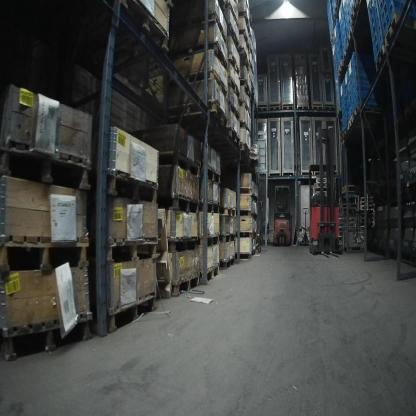forklift: (309, 125, 340, 259), (273, 186, 291, 247)
pallet: (2, 312, 93, 362), (0, 148, 91, 192), (0, 236, 89, 273), (119, 0, 169, 52), (108, 289, 158, 334), (106, 168, 159, 204), (168, 101, 228, 128), (186, 11, 228, 47), (180, 42, 228, 72), (107, 236, 158, 264), (158, 208, 172, 299), (186, 71, 228, 100), (158, 151, 201, 178), (331, 30, 341, 118), (158, 193, 199, 214), (172, 271, 200, 296), (384, 12, 402, 48), (168, 236, 198, 253), (352, 105, 379, 120), (225, 2, 238, 29), (375, 44, 387, 73), (228, 22, 239, 51), (228, 52, 240, 77), (238, 10, 250, 34), (207, 166, 221, 185), (228, 77, 240, 99), (238, 47, 249, 71), (228, 126, 240, 146), (239, 29, 250, 50), (207, 262, 219, 281), (220, 205, 237, 218), (240, 79, 251, 98), (207, 232, 220, 248), (219, 256, 235, 269), (220, 231, 237, 243), (351, 0, 359, 24), (230, 103, 240, 122), (235, 251, 252, 262), (207, 201, 220, 215), (338, 59, 348, 77), (239, 100, 251, 115), (240, 120, 251, 135), (240, 142, 250, 158), (341, 185, 355, 194), (347, 26, 353, 47), (240, 230, 253, 239), (239, 187, 252, 196), (240, 209, 252, 217), (360, 201, 375, 207), (342, 126, 349, 138), (313, 187, 326, 193), (348, 115, 353, 130), (343, 45, 348, 60), (314, 183, 326, 189), (249, 61, 254, 75), (312, 105, 323, 111), (316, 178, 327, 184), (268, 106, 281, 111), (281, 105, 294, 110), (360, 197, 373, 202), (250, 44, 254, 60), (297, 105, 309, 110), (250, 80, 254, 94), (324, 106, 335, 111), (334, 3, 337, 21), (258, 107, 268, 112), (251, 248, 256, 256), (255, 101, 258, 111)
pallet_truck: (256, 200, 263, 253), (300, 207, 309, 245)
